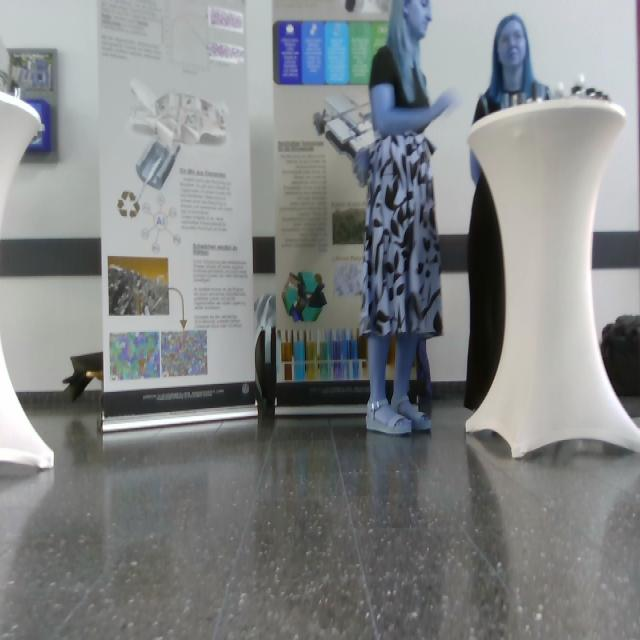door: (267, 1, 639, 412)
light bulb: (1, 88, 55, 473), (128, 77, 229, 192)
person: (356, 1, 461, 437)
pillar: (464, 97, 640, 460)
tiled floor: (1, 385, 640, 640)
